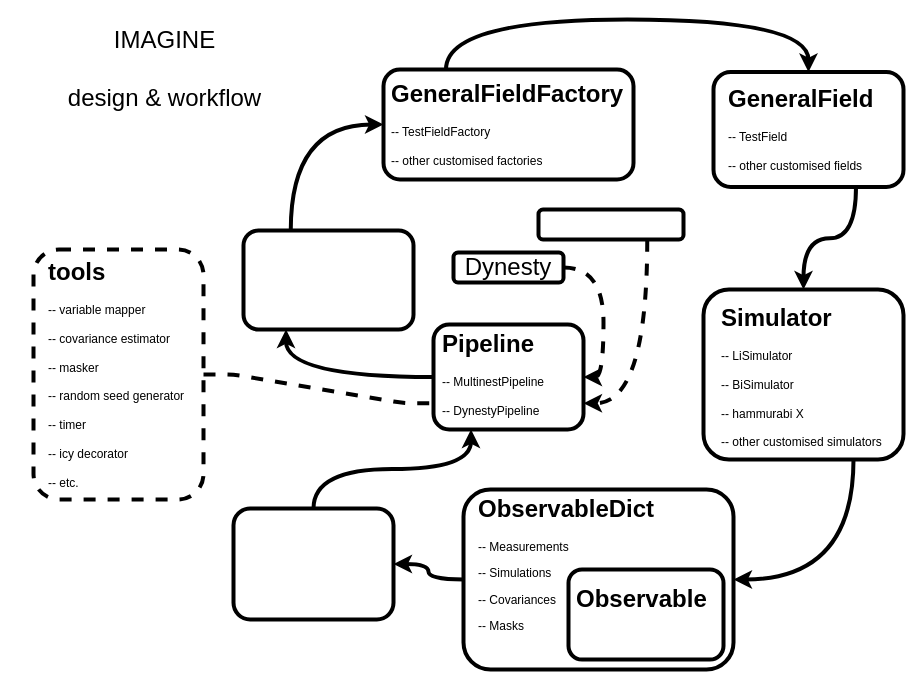
Some shapes in this 923 by 688 pixel diagram are drawn without their labels. Here are the shapes that lost their labels. From the top down, the centre of each, then its label:
(x=610, y=224): Pymultinest
(x=328, y=279): Prior -- FlatPrior -- other customised priors
(x=313, y=563): Likelihood -- SimpleLikelihood -- EnsembleLikelihood
